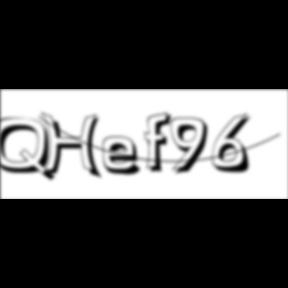6: (212, 112, 258, 176)
9: (170, 117, 216, 177)
H: (41, 112, 107, 182)
Q: (0, 117, 58, 184)
e: (103, 135, 149, 178)
f: (144, 111, 178, 175)
